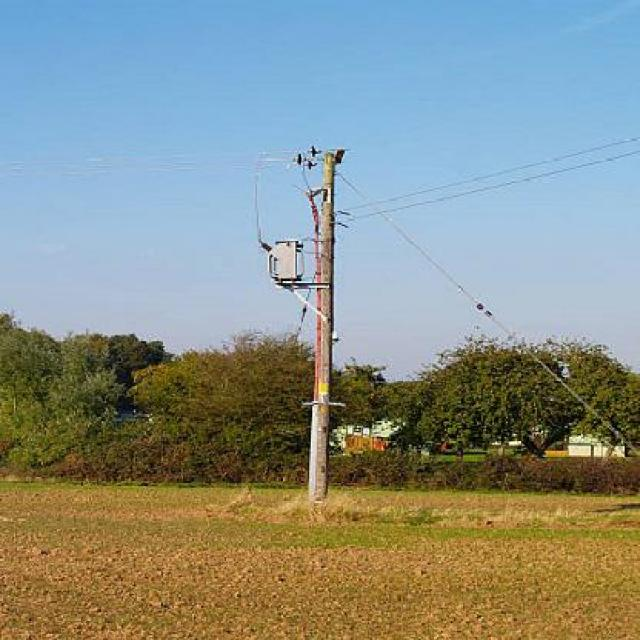pole: (251, 138, 377, 497)
